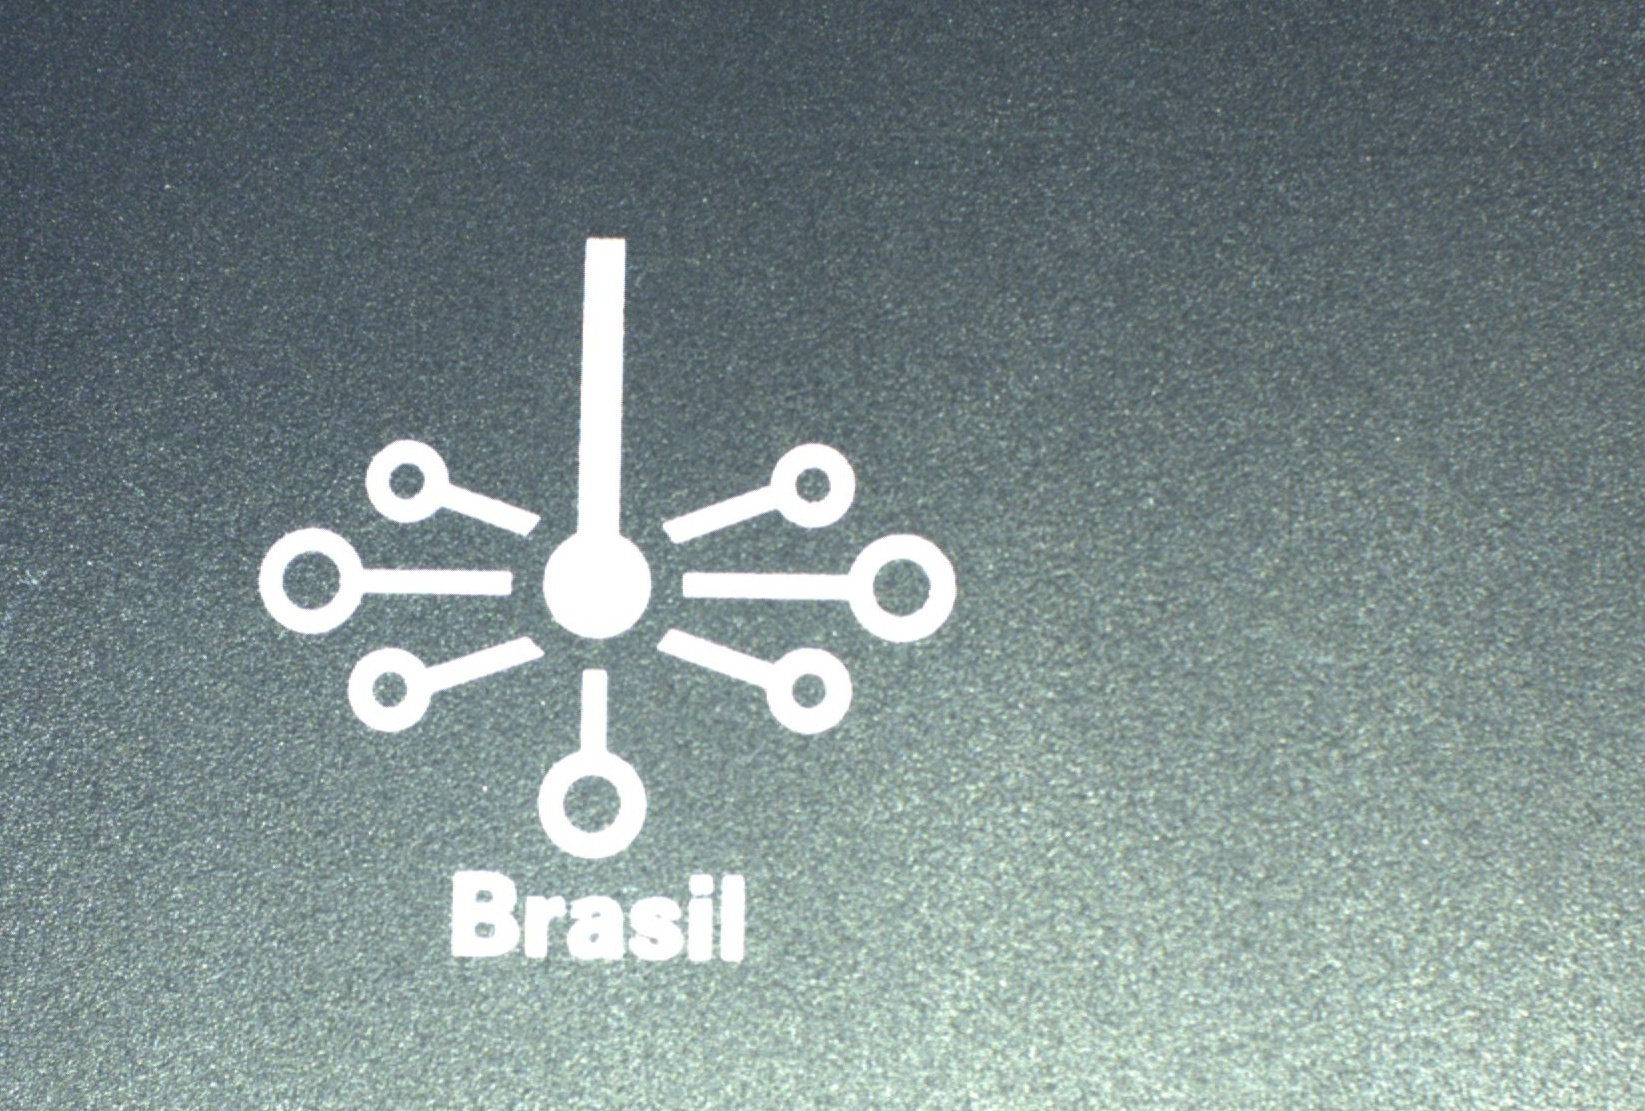BO_Brsail: (236, 227, 969, 970)
